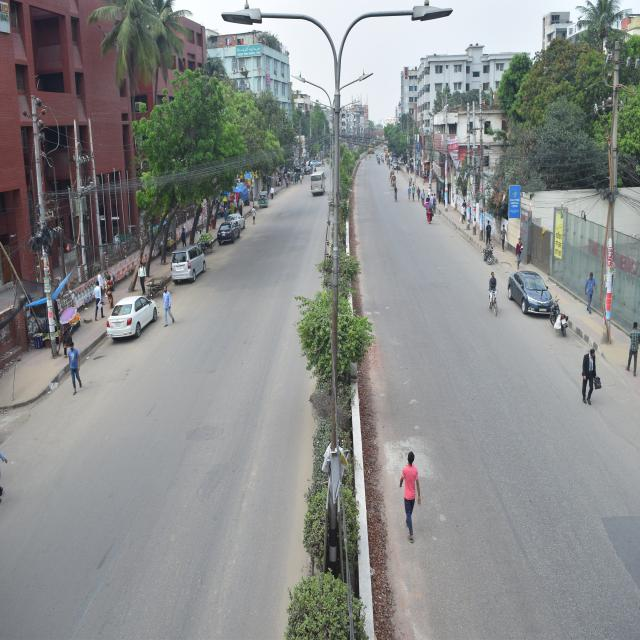bus: (309, 165, 327, 198)
car: (109, 288, 159, 351), (509, 260, 546, 312), (169, 246, 205, 286), (216, 216, 238, 246), (228, 207, 242, 229)
motorbike: (553, 300, 566, 335)
